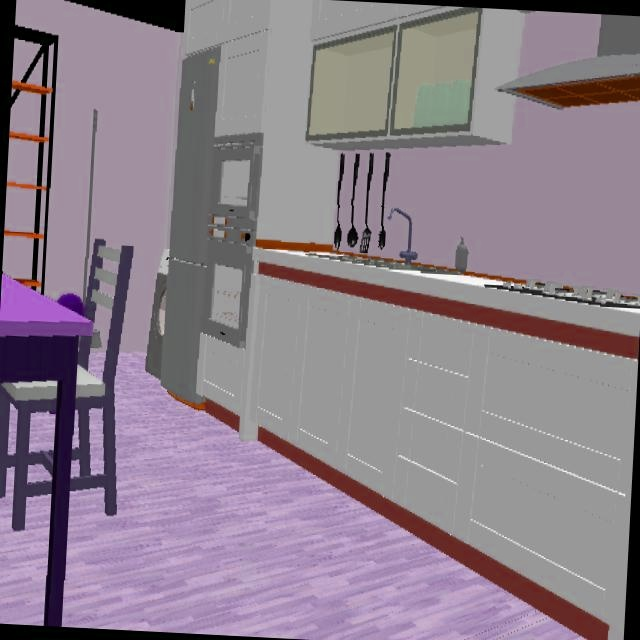cabinet: (200, 276, 637, 640), (184, 0, 524, 244)
countertop: (255, 251, 640, 359)
fridge: (161, 48, 221, 403)
microwave: (210, 136, 263, 245)
oven: (202, 239, 252, 348)
sink: (310, 209, 459, 274)
stove: (495, 279, 640, 308)
